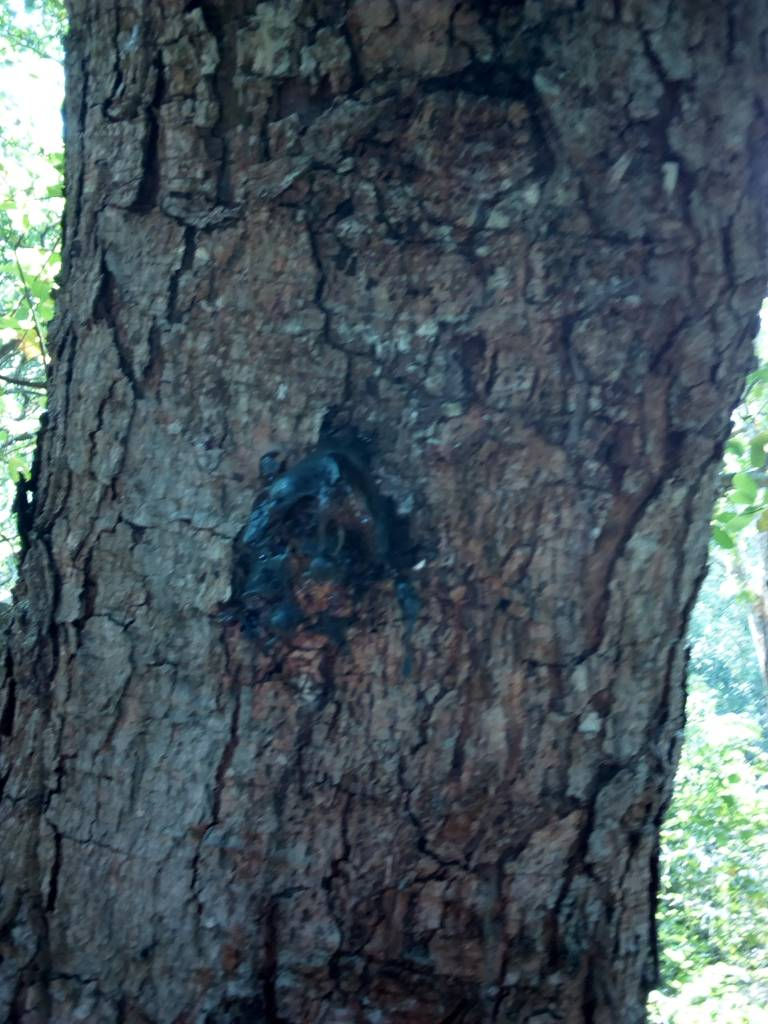Gommose: (218, 436, 404, 666)
